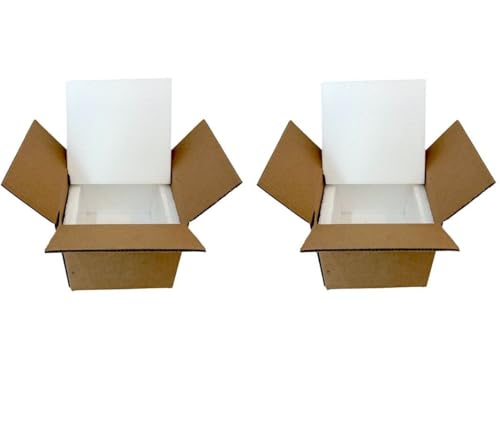Boxes: (66, 79, 178, 224), (320, 80, 432, 224)
